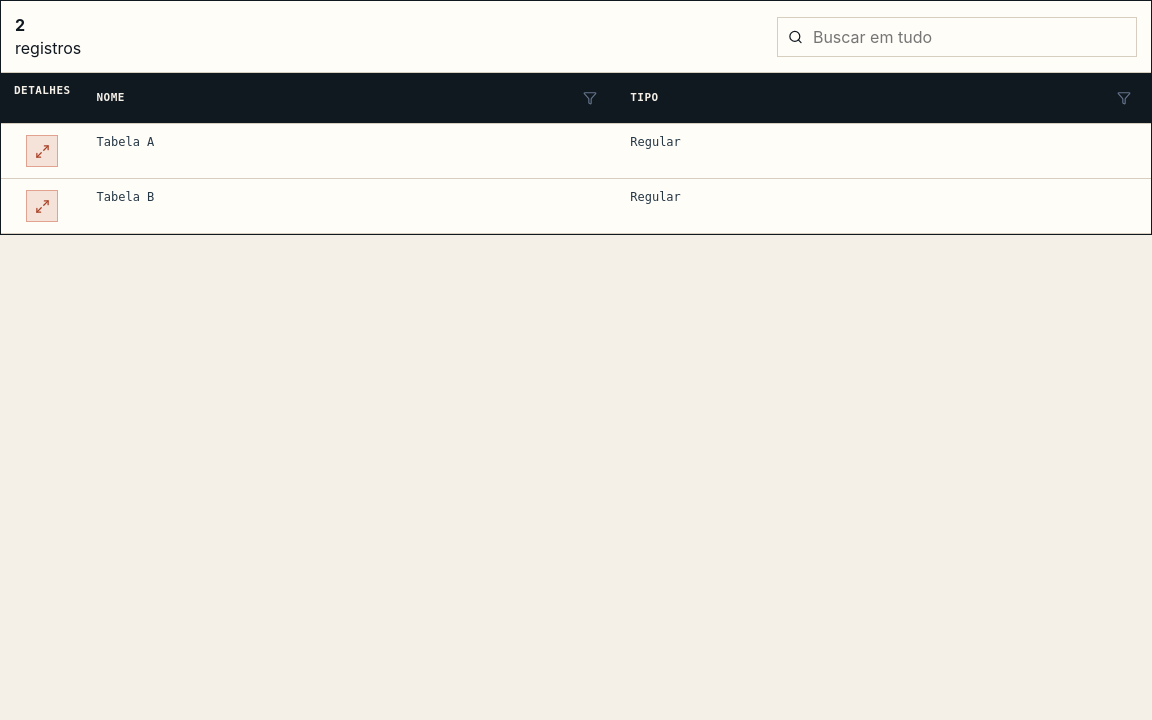
Test case: DataTable › renderiza o filtro em portal e preserva busca, seleção e limpeza
Click the button named "Filtrar coluna Nome" at (590, 98), box [576,84,604,112]
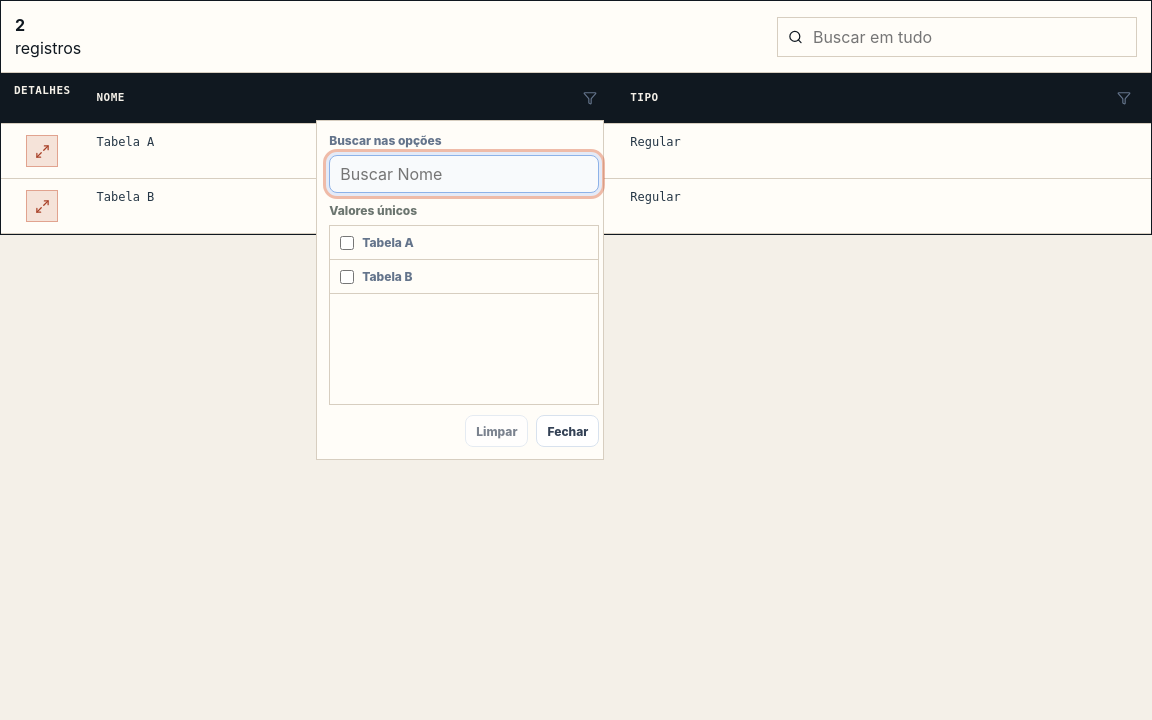
Expected: the element with class "column-filter-menu" is shown, [316,120,604,460]
Type "Tabela A" into the field with placeholder "Buscar Nome" at (464, 174), box [329,155,599,193]
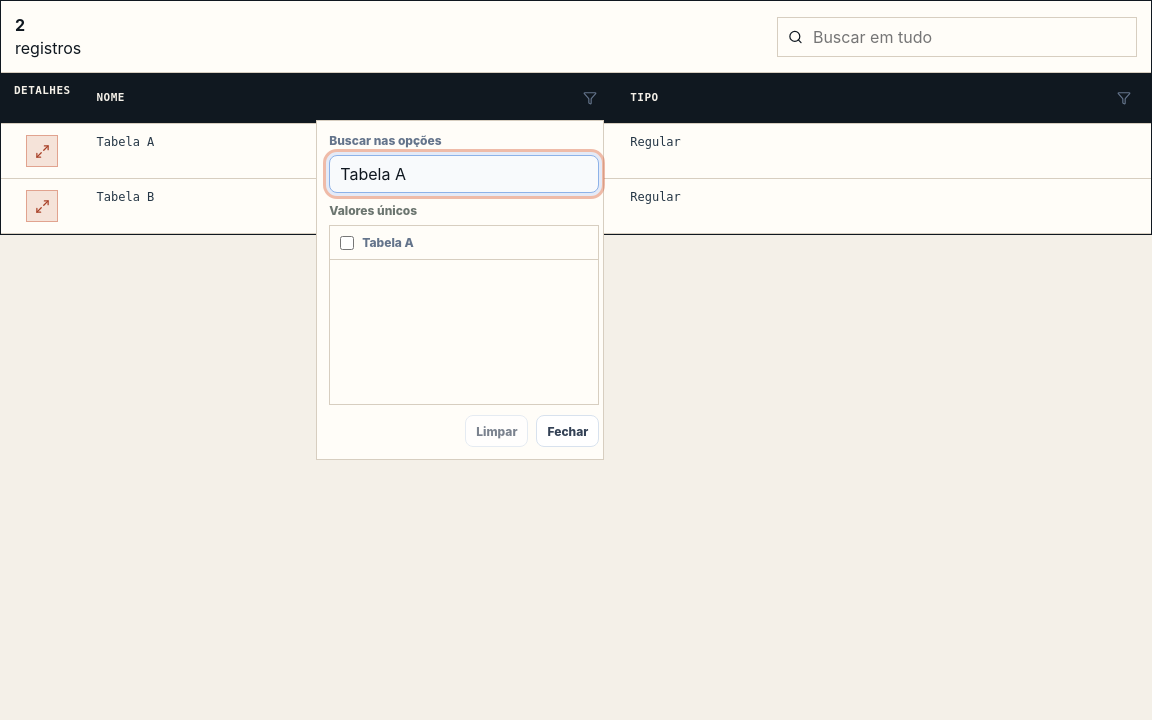
Click the checkbox labelled "Tabela A" at (347, 242), box [340,236,354,250]
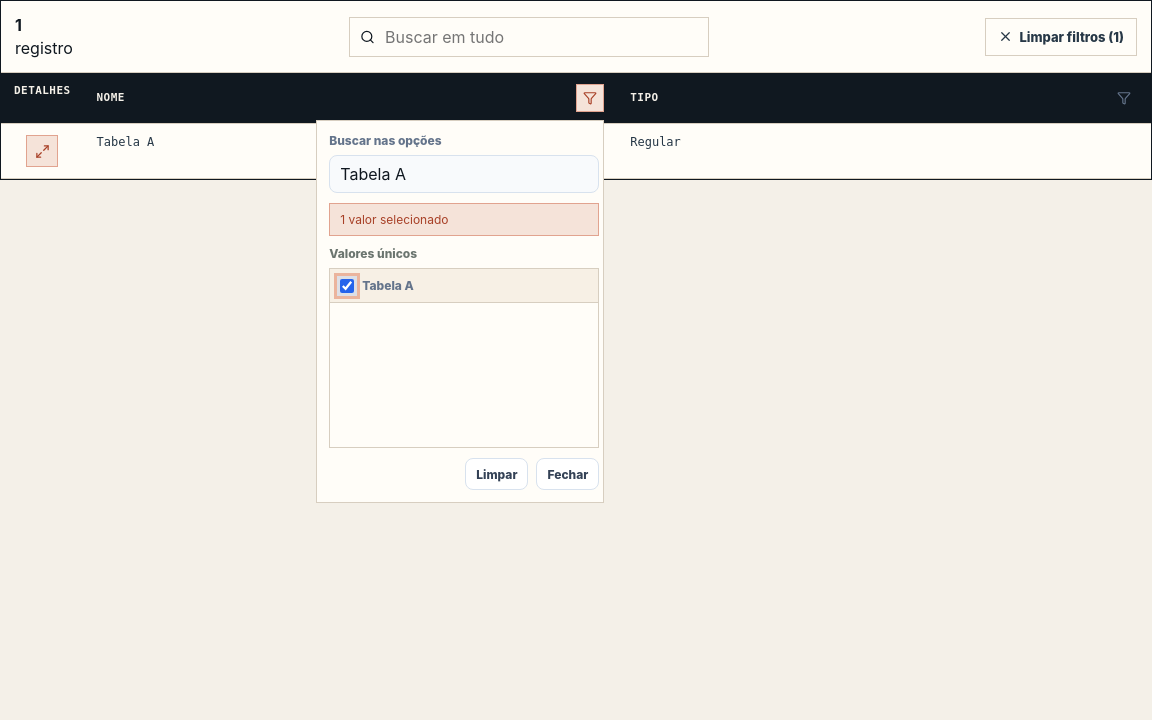
Expected: the text "1 valor selecionado" is shown, [329,203,599,236]
Click the button "Fechar" at (568, 474), box [536,458,599,490]
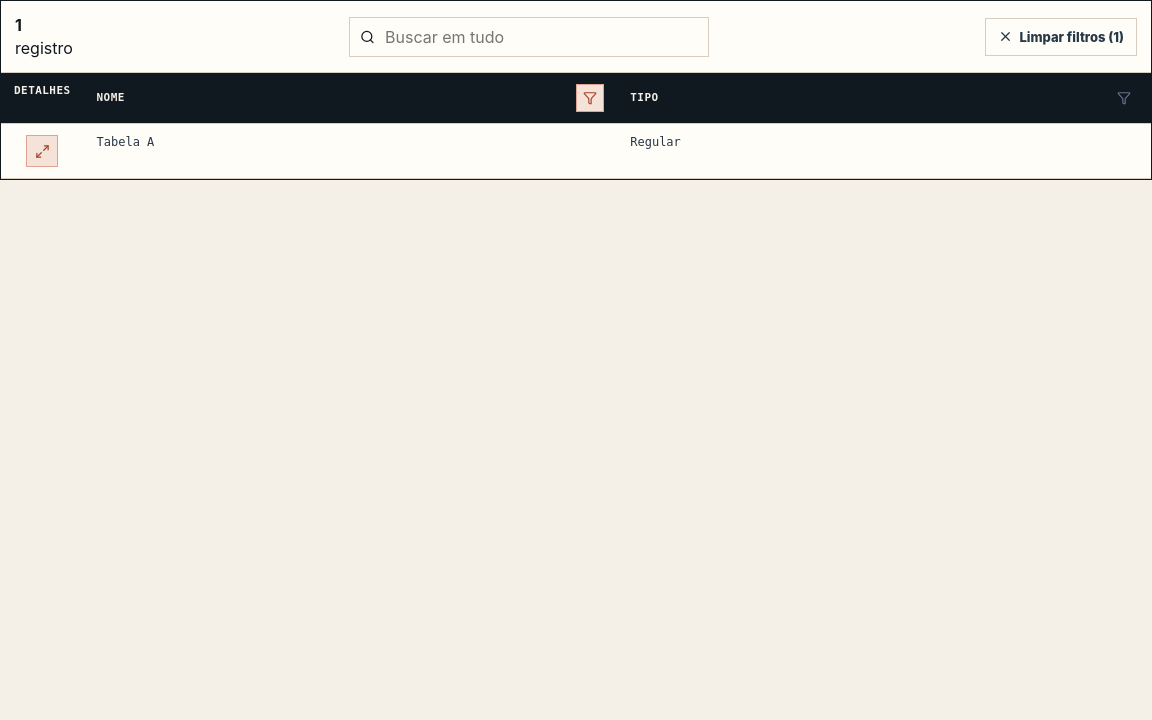
Expected: the text "Tabela B" is not shown
Expected: the element with class "column-filter-menu" is gone
Click the button named "Filtrar coluna Nome" at (590, 98), box [576,84,604,112]
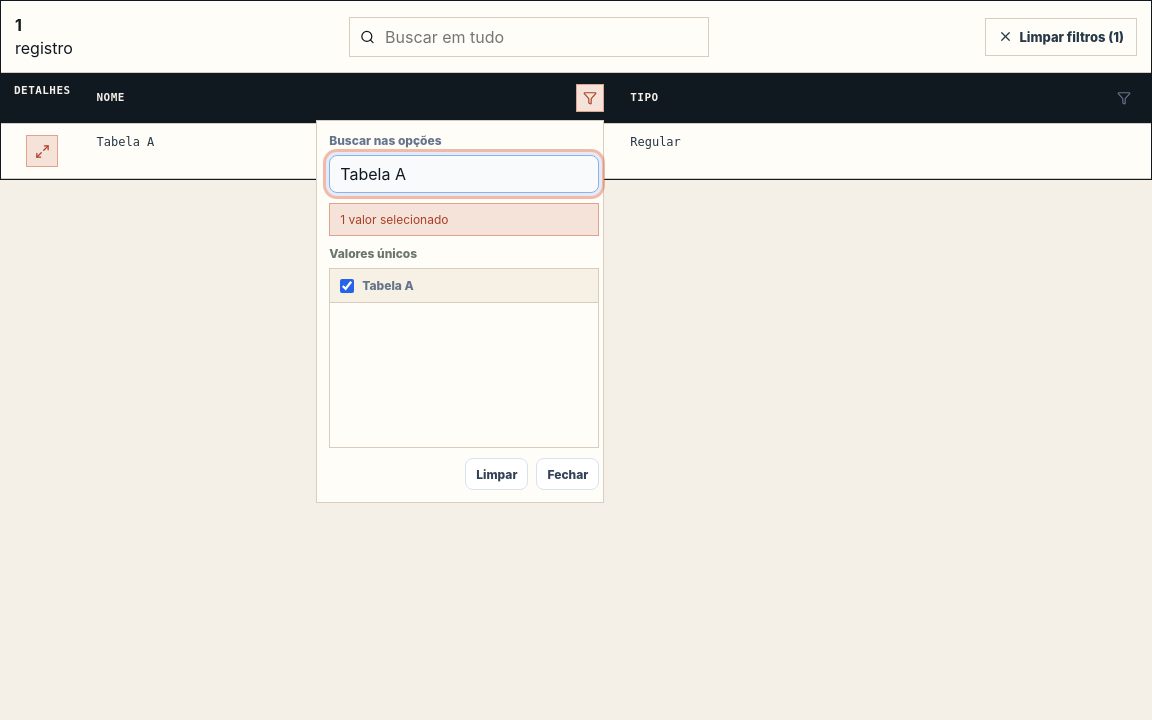
Click the button "Limpar" at (497, 474), box [465,458,528,490]
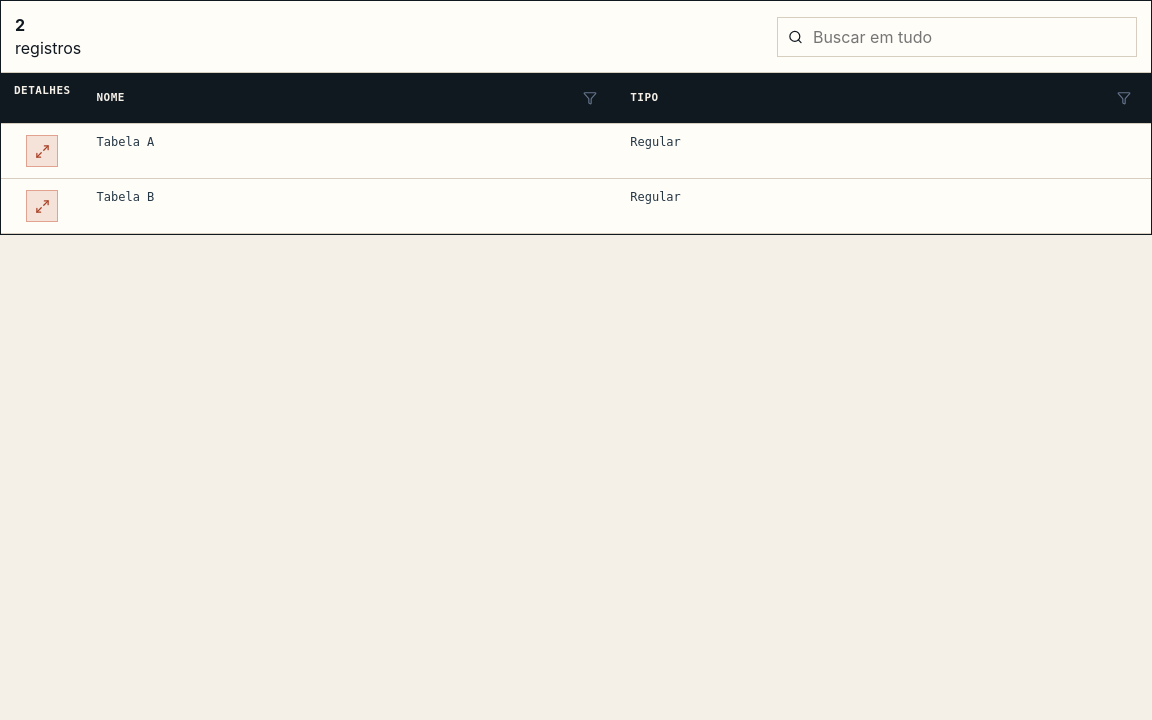
Expected: the element with class "column-filter-menu" is gone
Expected: the text "Tabela B" is shown, [84,178,617,234]
